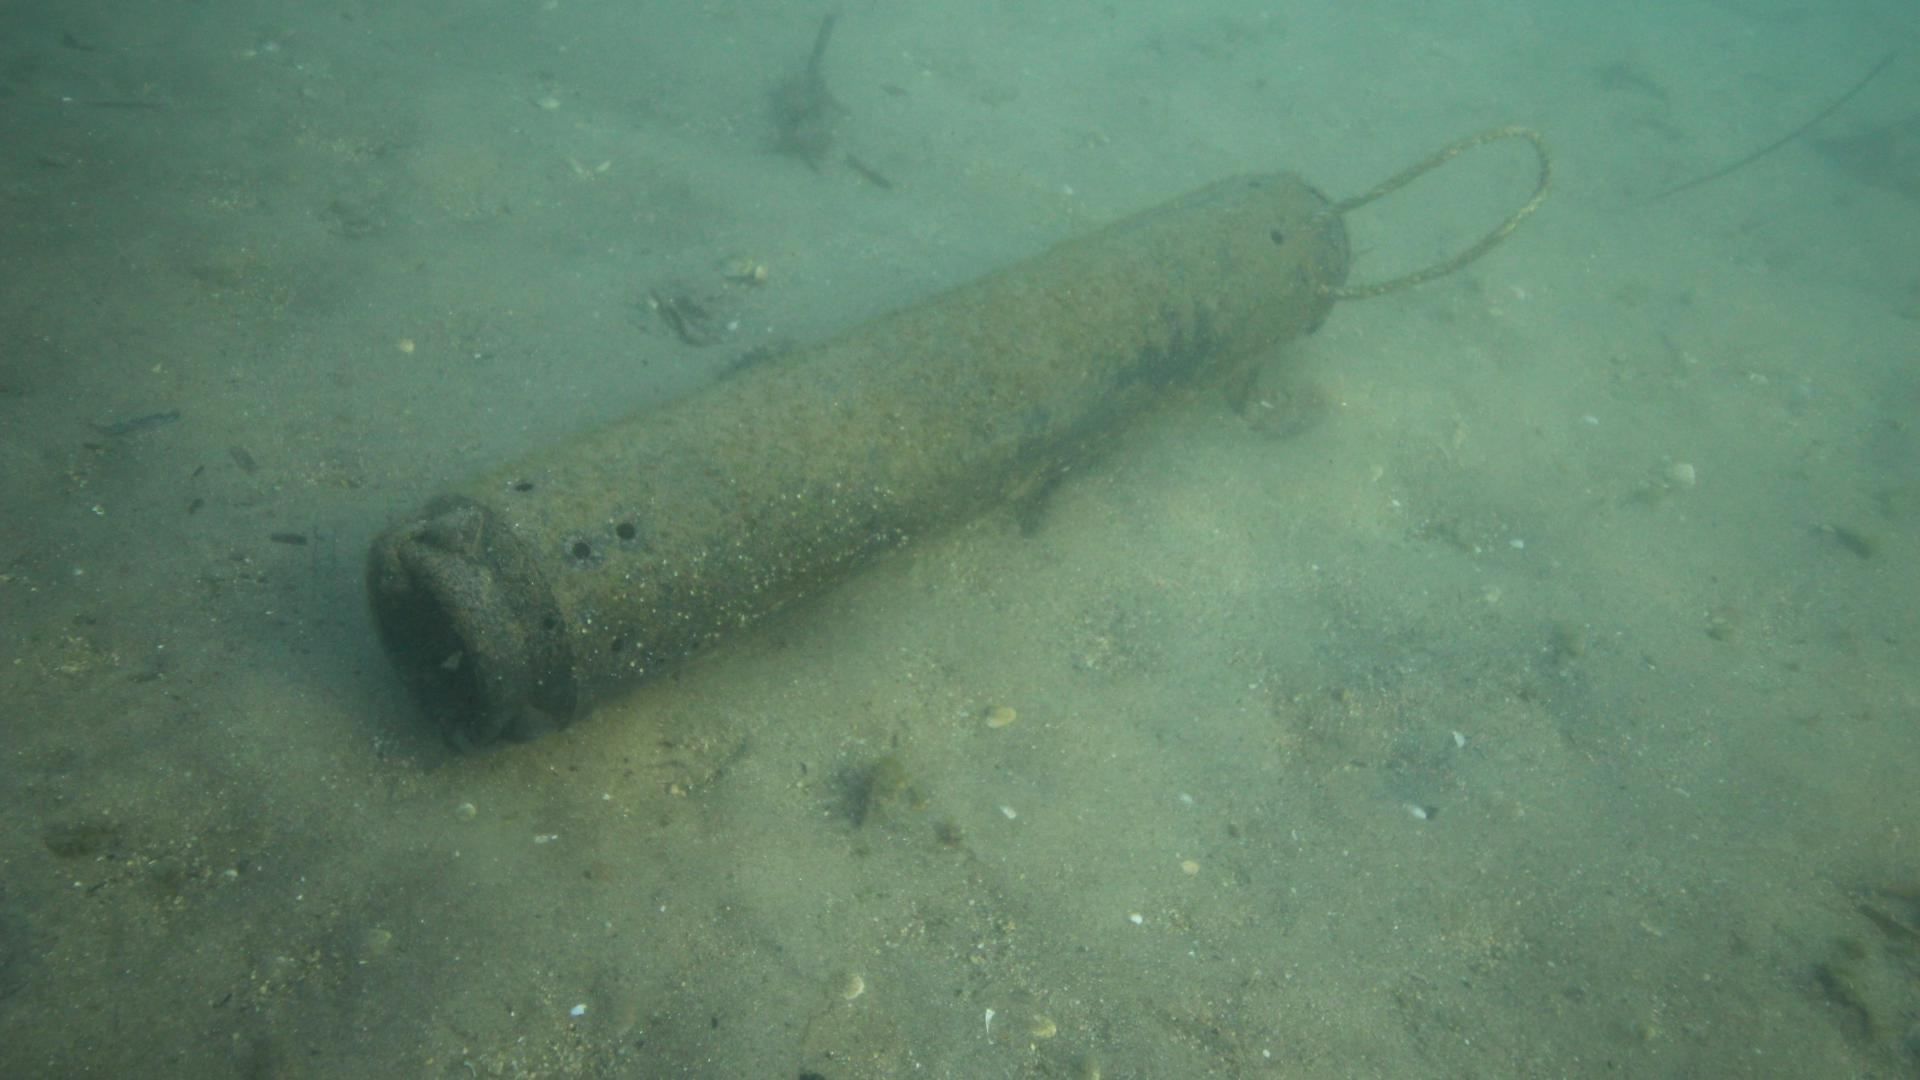eel fish trap: (367, 167, 1349, 749)
rope: (1307, 120, 1555, 297)
